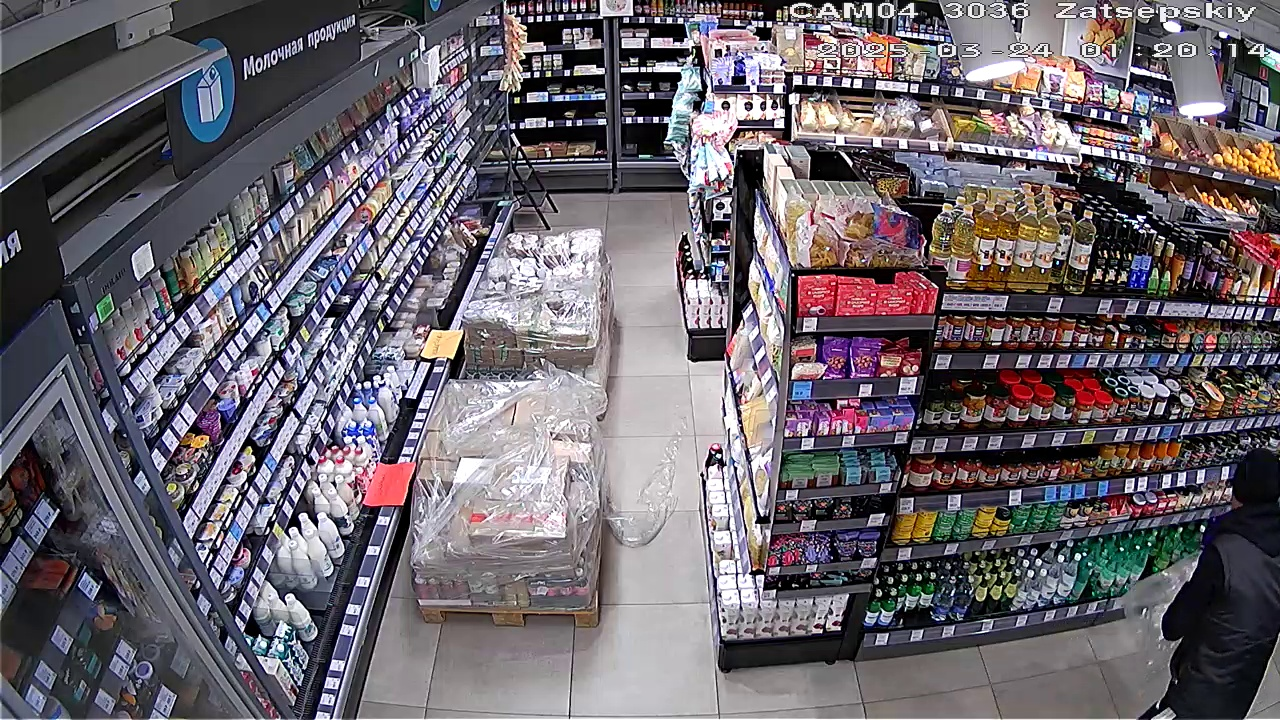Human: (1132, 423, 1279, 719)
pallet: (399, 362, 606, 634), (459, 218, 618, 391)
